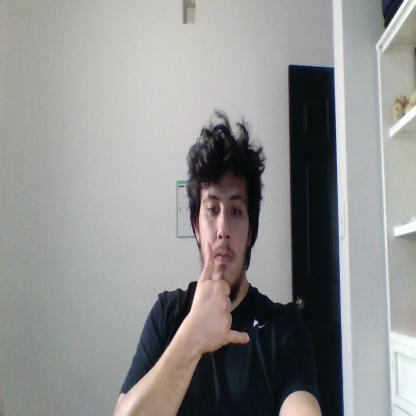Y: (192, 242, 249, 352)
